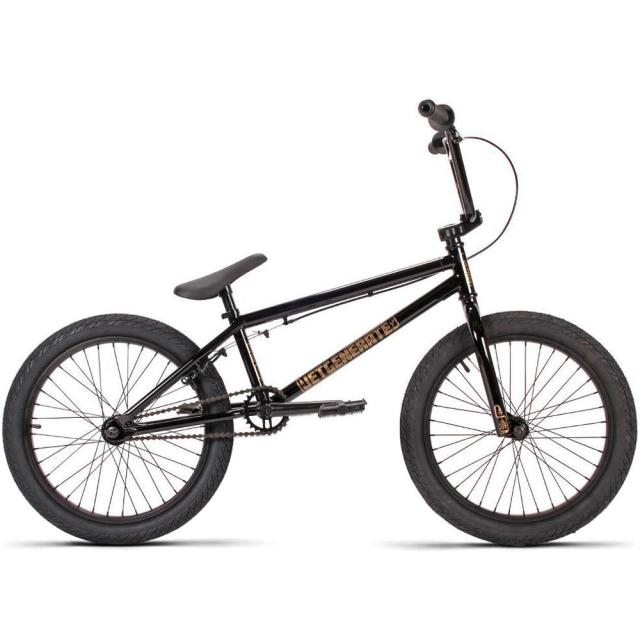bmx-bike: (5, 95, 637, 547)
